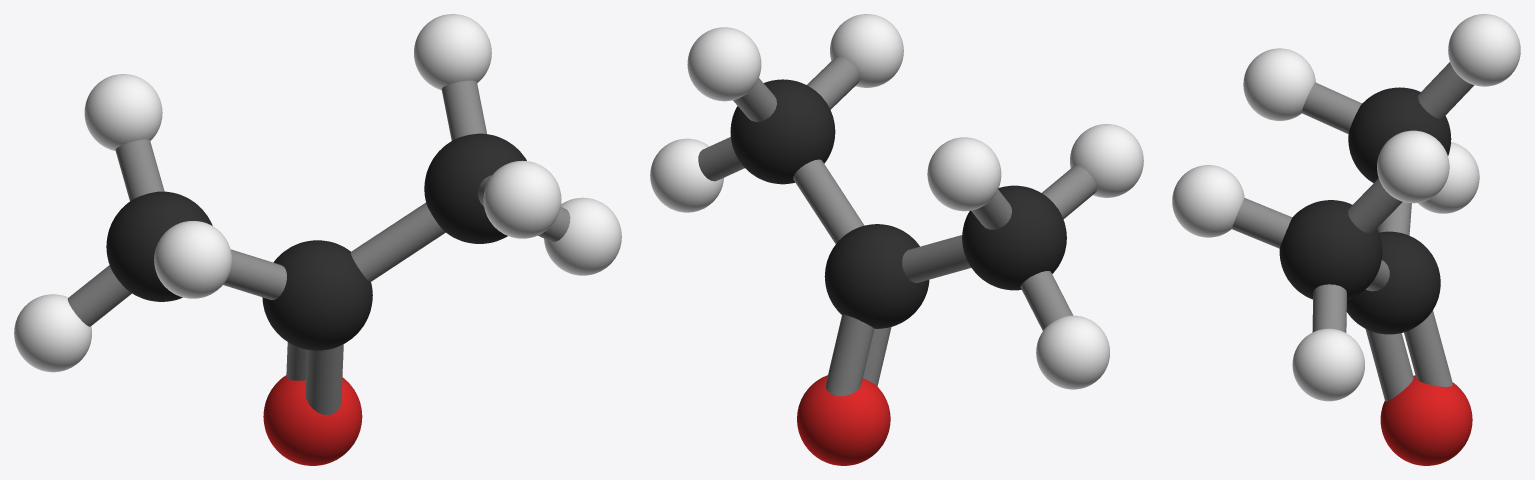
File: propanon.glb
3 renders of one model, left to right at view 1: azimuth 30°, elevation 25°; view 2: azimuth 150°, elevation 25°; view 3: azimuth 270°, elevation 25°, orthographic. The views are drawn at different scales.
Visible parts, largest first — view 1: C_1, C_3, O_2, C_0, H_7, H_6, H_5, H_4, H_9, H_8, B2, B1a (+5 smaller); view 2: C_1, C_3, C_0, O_2, H_9, H_5, H_4, H_6, H_7, H_8, B2, B1b (+8 smaller); view 3: C_3, O_2, C_1, C_0, H_5, H_9, H_8, H_7, H_6, B1b, H_4, B1a (+7 smaller).
Part boxes in pixels (x1,y1,x2,y2): C_1: [262, 240, 372, 350]; C_3: [424, 133, 526, 243]; O_2: [263, 375, 362, 465]; C_0: [106, 191, 212, 301]; H_7: [483, 160, 561, 238]; H_6: [154, 221, 231, 298]; H_5: [84, 74, 162, 150]; H_4: [14, 294, 91, 372]; H_9: [414, 14, 491, 90]; H_8: [544, 197, 621, 275]; B2: [350, 202, 445, 282]; B1a: [305, 344, 343, 415]; C_1: [824, 224, 929, 328]; C_3: [730, 79, 835, 184]; C_0: [962, 185, 1066, 290]; O_2: [797, 375, 890, 465]; H_9: [687, 27, 761, 101]; H_5: [927, 137, 1001, 211]; H_4: [1036, 315, 1109, 389]; H_6: [1070, 124, 1143, 197]; H_7: [830, 14, 903, 87]; H_8: [650, 138, 723, 212]; B2: [793, 159, 864, 244]; B1b: [825, 314, 873, 396]; C_3: [1279, 200, 1382, 300]; O_2: [1380, 375, 1472, 465]; C_1: [1346, 231, 1440, 334]; C_0: [1348, 87, 1451, 183]; H_5: [1448, 14, 1520, 86]; H_9: [1377, 130, 1449, 203]; H_8: [1292, 328, 1364, 401]; H_7: [1172, 165, 1244, 237]; H_6: [1243, 48, 1315, 120]; B1b: [1404, 310, 1452, 386]; H_4: [1418, 142, 1479, 213]; B1a: [1365, 329, 1413, 401].
Size of the model in its own units: 4.76 by 3.53 by 2.88.
